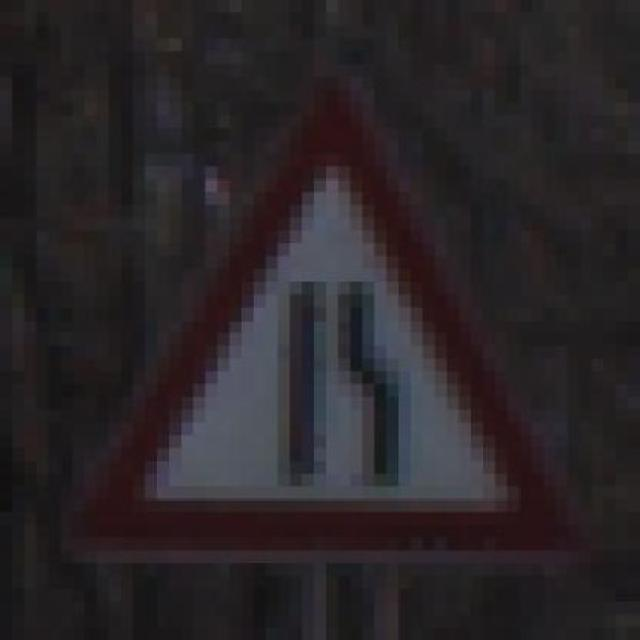-Road narrows on right: (72, 64, 592, 576)
